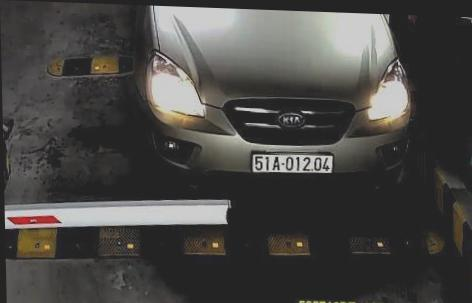License_Plate: (248, 148, 336, 180)
